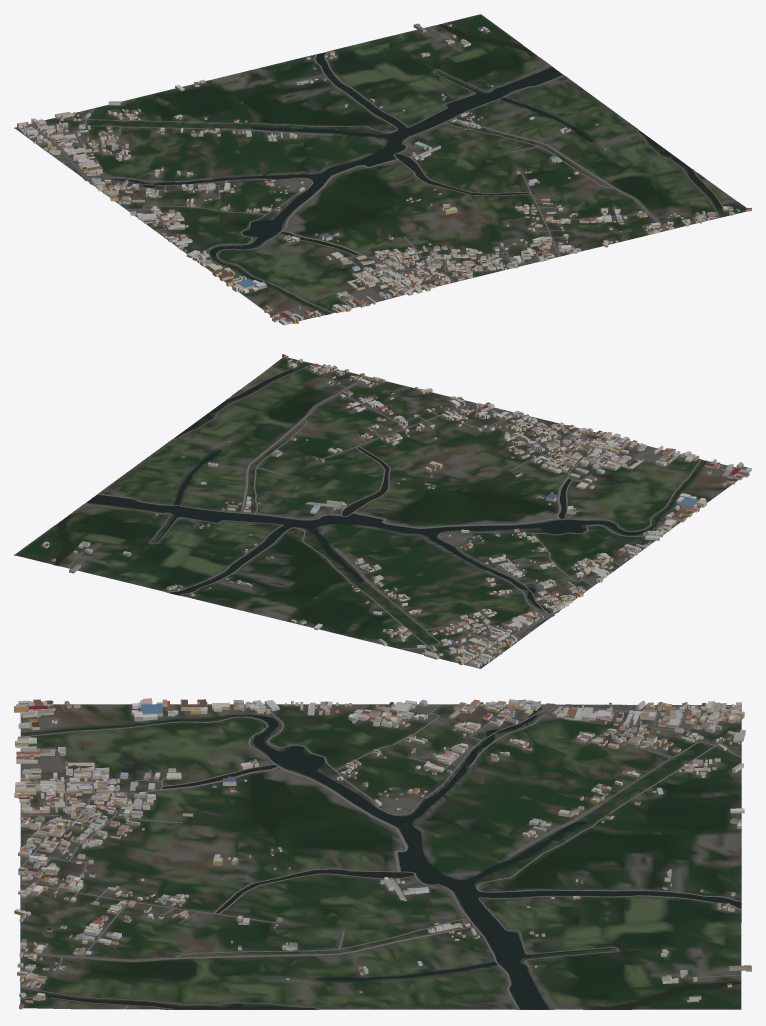
3 views of the same model, one above another, from view 1: azimuth 30°, elevation 25°; view 2: azimuth 150°, elevation 25°; view 3: azimuth 270°, elevation 25° (orthographic). The views are drawn at different scales.
Parts seen in each view (by area): view 1: ground, buildings, water, roads; view 2: ground, buildings, water, roads; view 3: ground, buildings, water, roads.
Part boxes in pixels (bbox=[...]): ground: bbox=[14, 14, 747, 320]; buildings: bbox=[17, 23, 751, 325]; water: bbox=[83, 24, 721, 314]; roads: bbox=[29, 27, 736, 320]; ground: bbox=[14, 357, 737, 668]; buildings: bbox=[42, 354, 751, 668]; water: bbox=[54, 369, 706, 617]; roads: bbox=[66, 360, 735, 665]; ground: bbox=[20, 704, 741, 1009]; buildings: bbox=[14, 698, 751, 1009]; water: bbox=[20, 704, 741, 1009]; roads: bbox=[20, 703, 741, 1009].
Bounding box in the file's own units: 1416 × 17.84 × 1433.
